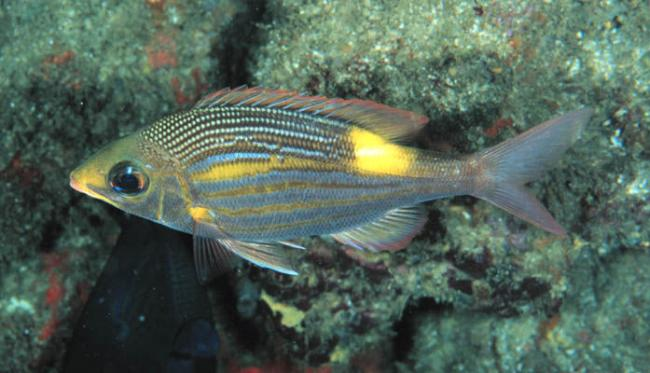fish: (69, 83, 583, 276)
